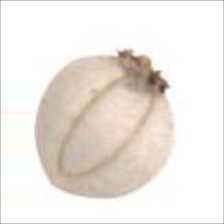L5: (57, 76, 154, 178), (110, 46, 171, 103)
L6: (33, 45, 177, 201)
